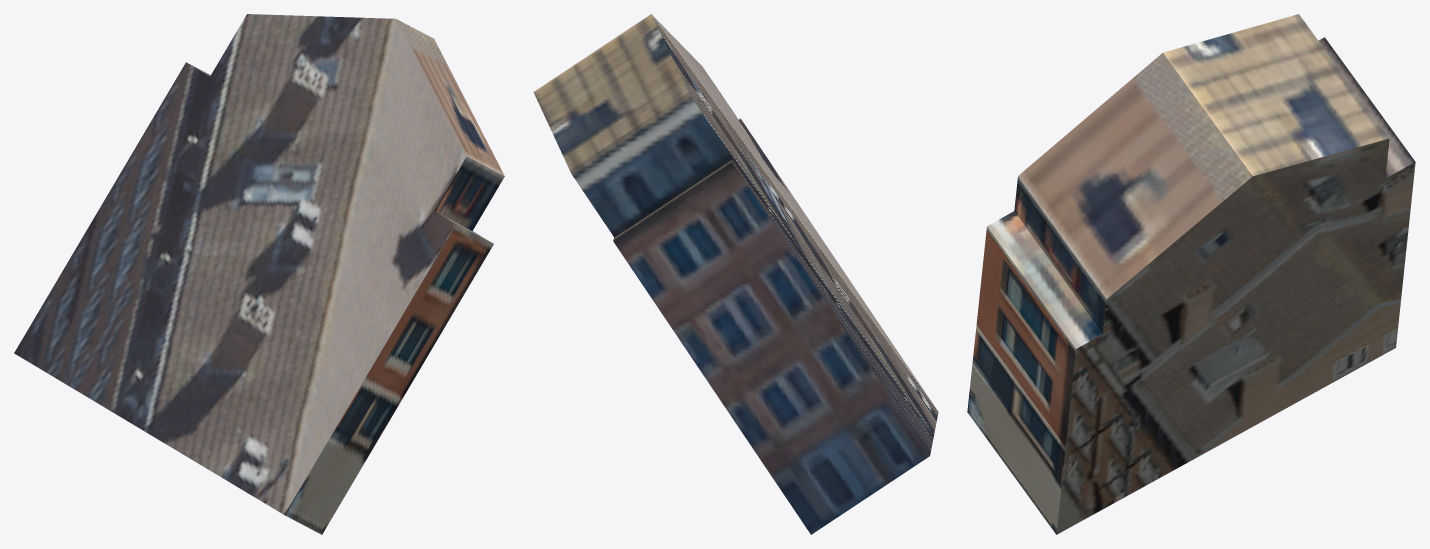
3 views of the same model, side by side, from view 1: azimuth 30°, elevation 25°; view 2: azimuth 150°, elevation 25°; view 3: azimuth 270°, elevation 25° (orthographic). The views are drawn at different scales.
Visible parts, largest first — view 1: BAG_0599100000650055 (×2); view 2: BAG_0599100000650055 (×2); view 3: BAG_0599100000650055 (×2).
Boxes of the visible parts, x1,y1,x2,y2 form: BAG_0599100000650055 (×2): (14, 14, 504, 534); BAG_0599100000650055 (×2): (533, 14, 938, 534); BAG_0599100000650055 (×2): (967, 14, 1415, 534).
Bounding box in the file's own units: 17.29 × 18.38 × 13.53.
1 material, 1 textured.
